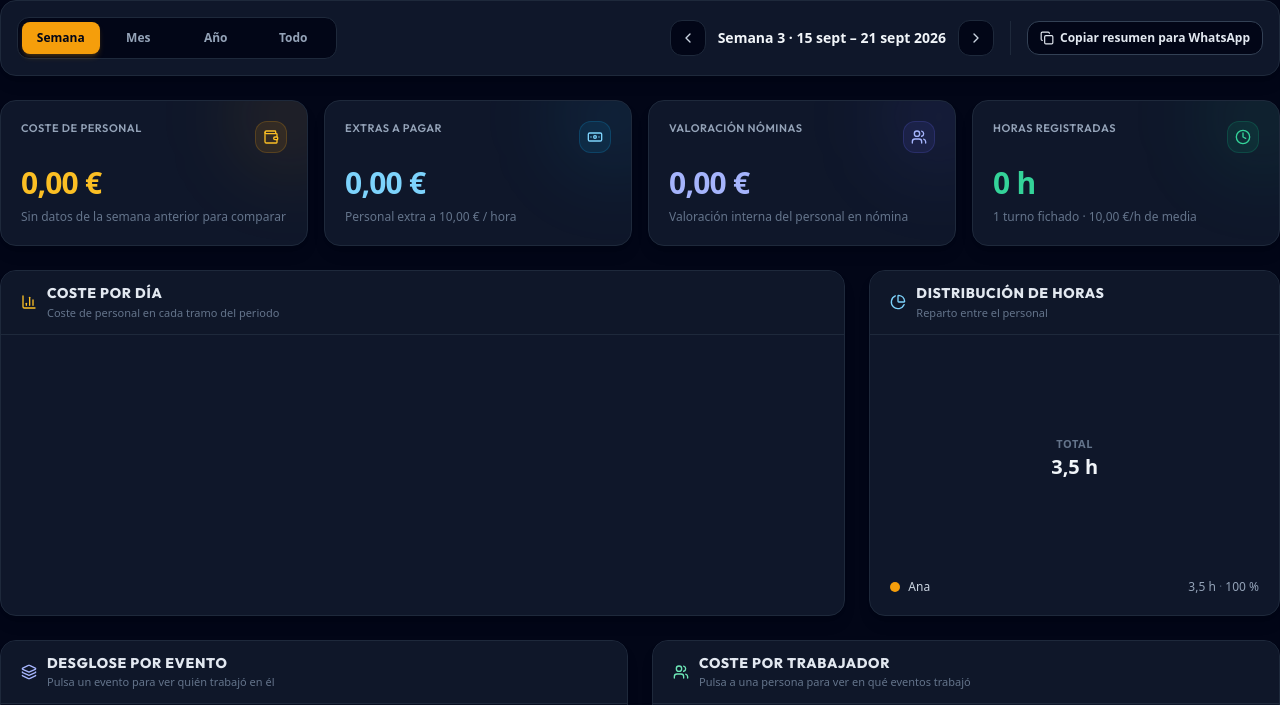
Test: FinancialSummaryTab — sigue a la semana elegida › Mes y Año parten de la semana elegida, no de otra a la que se hubiera navegado
This screenshot has width=1280, height=705.
Click the button named "Periodo siguiente" at (976, 38), box [958,20,994,56]
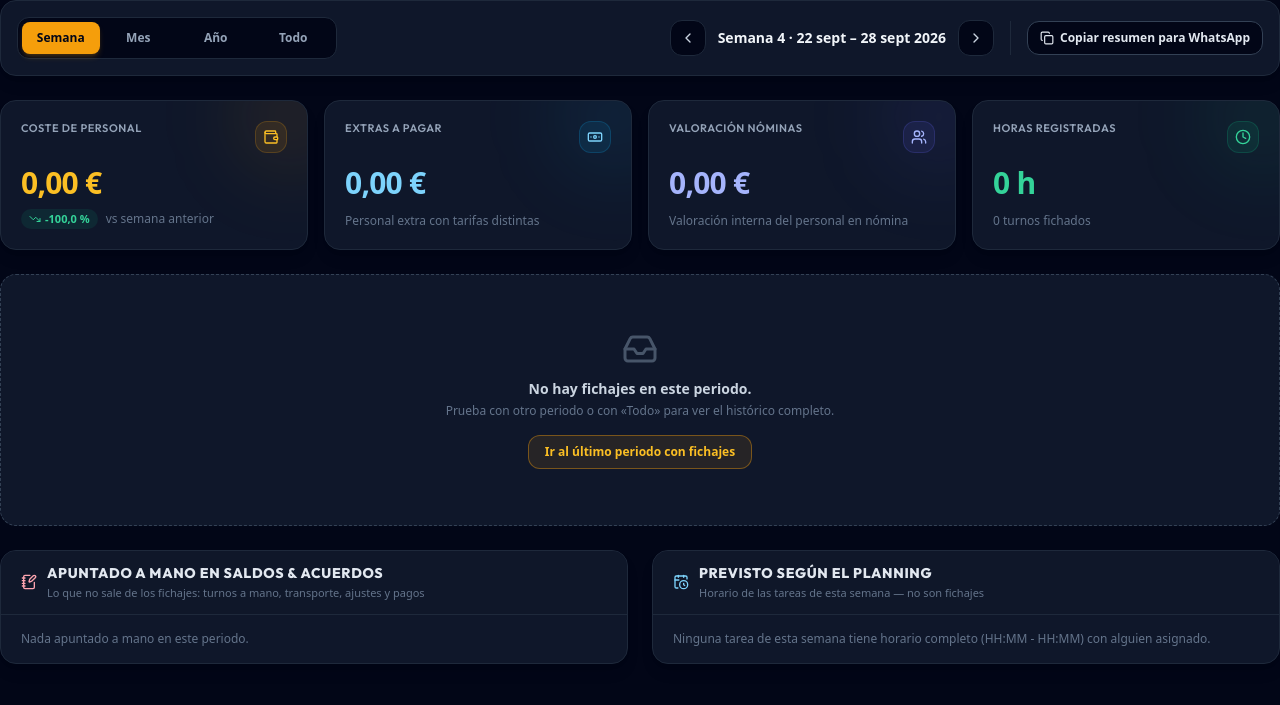
Click the button "Mes" at (138, 38), box [100,22,177,54]
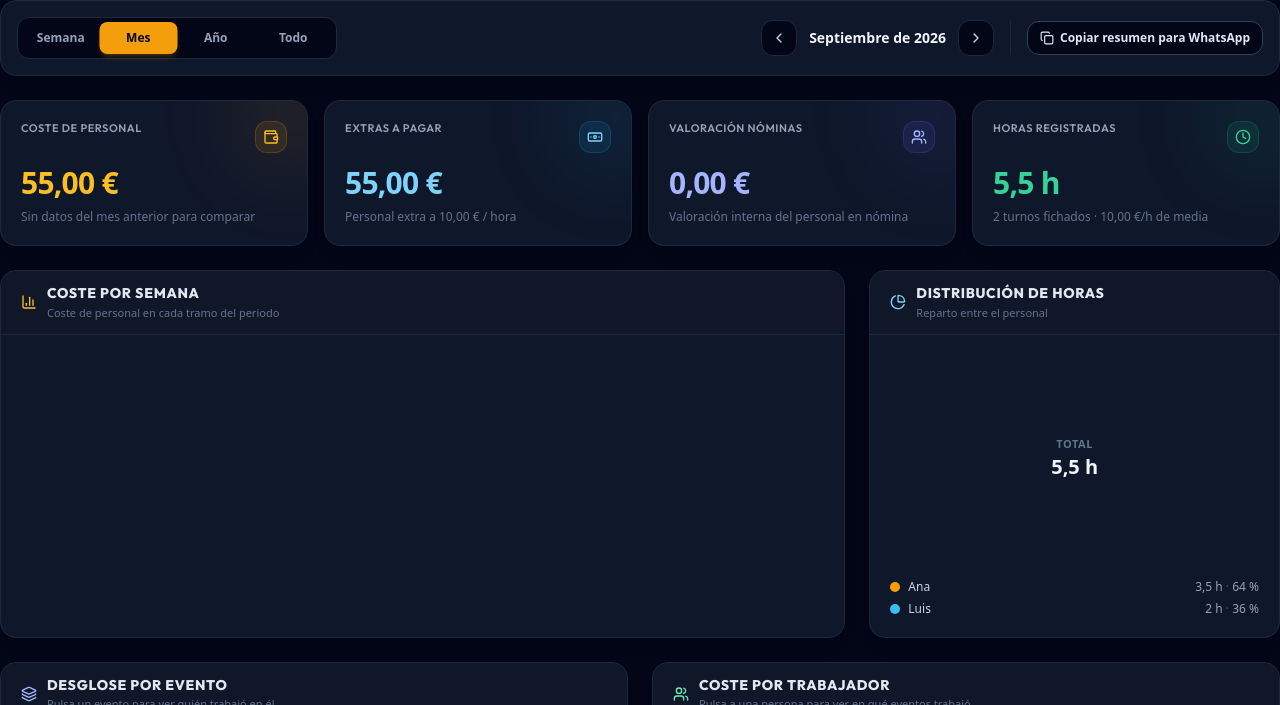
Check: the text "Septiembre de 2026" is shown, box [805,28,950,48]
